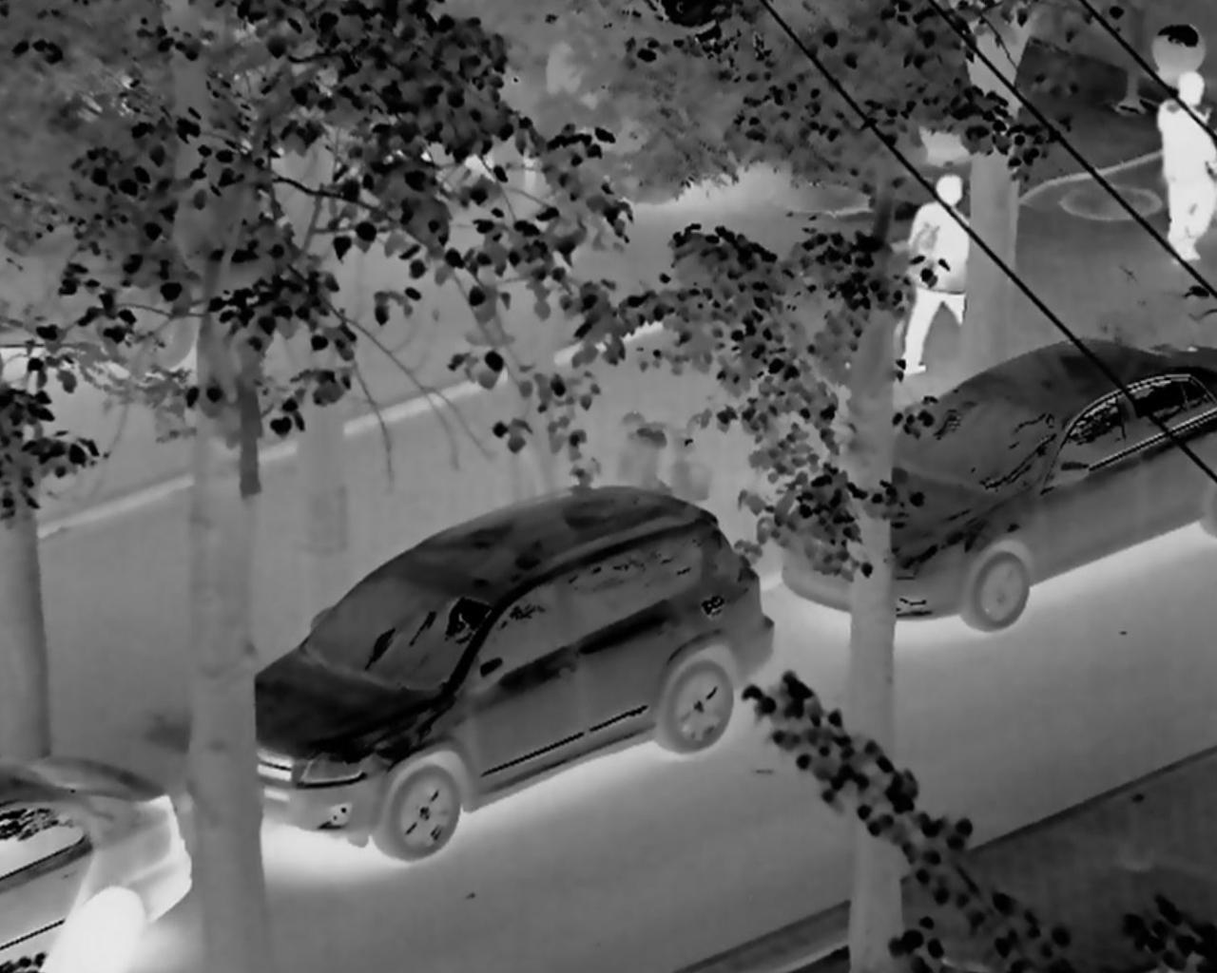person: (1141, 70, 1217, 265), (899, 173, 972, 373)
